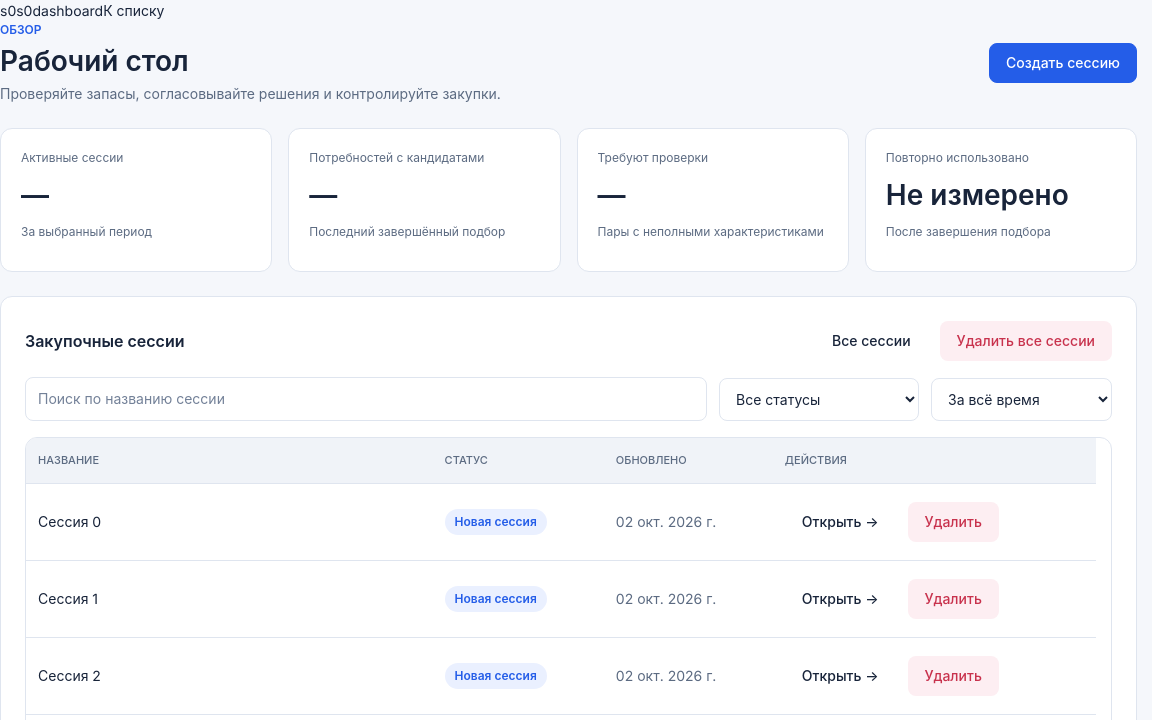
session deletion › clears the selected session and does not reload deleted details
Check: the text named "Открытые данные" reads "s0", box [16,2,32,19]
Click the button with aria-label "Удалить сессию «Сессия 0»" at (953, 522), box [908,502,999,542]
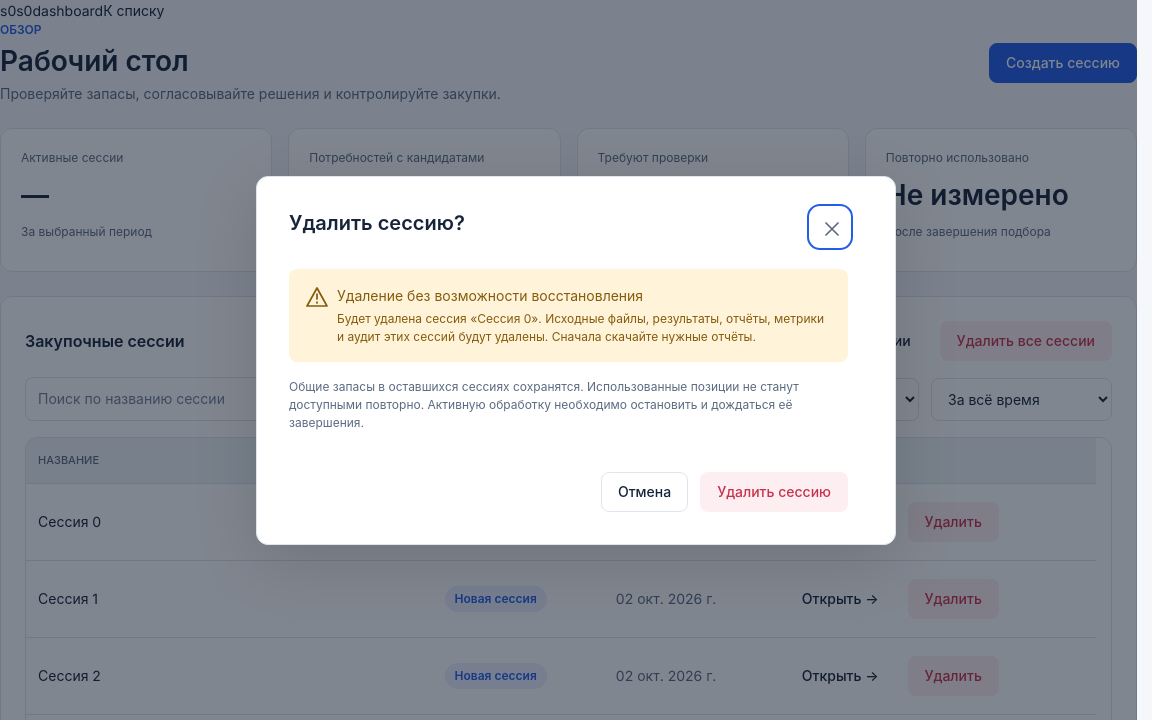
Click the button "Удалить сессию" at (774, 492), box [700,472,848,512]
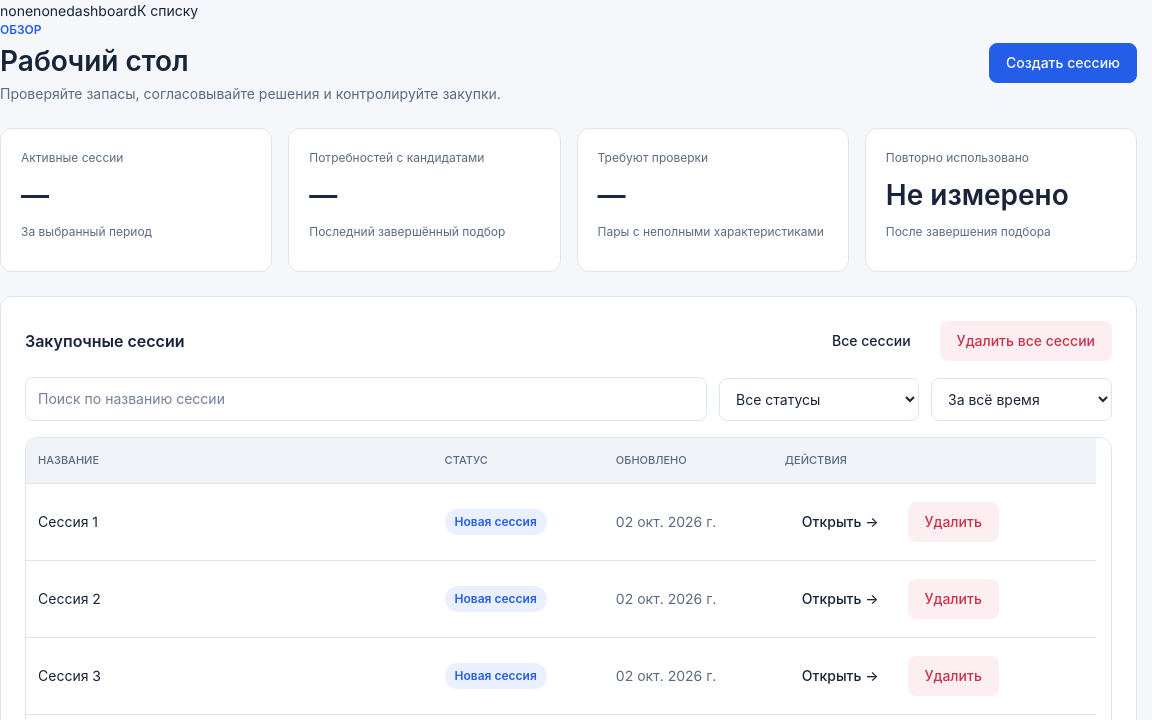
Check: the text named "Выбранная сессия" reads "none", box [0,2,33,19]
Check: the text named "Открытые данные" reads "none", box [33,2,66,19]
